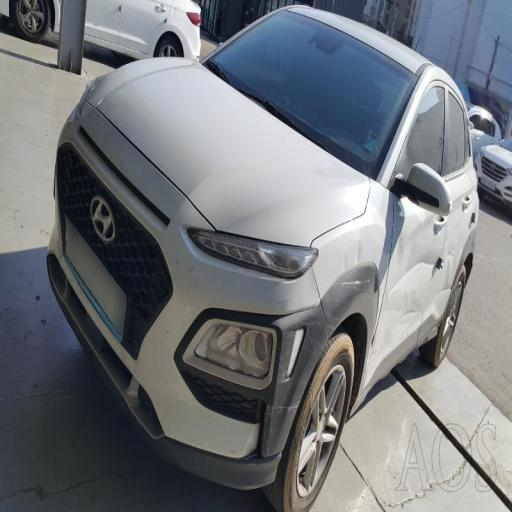dent: (330, 228, 480, 363)
